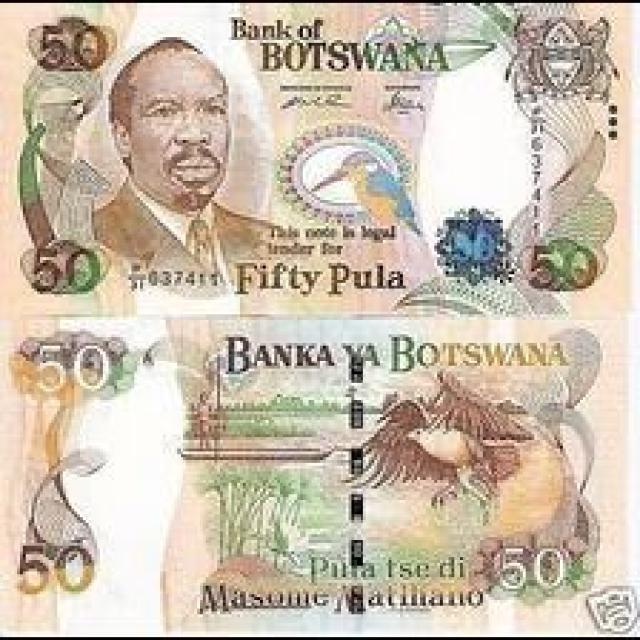banknote: (1, 318, 637, 637), (1, 3, 634, 320)
